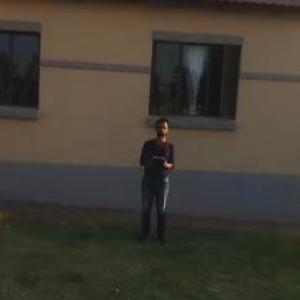follow: (134, 112, 179, 251)
